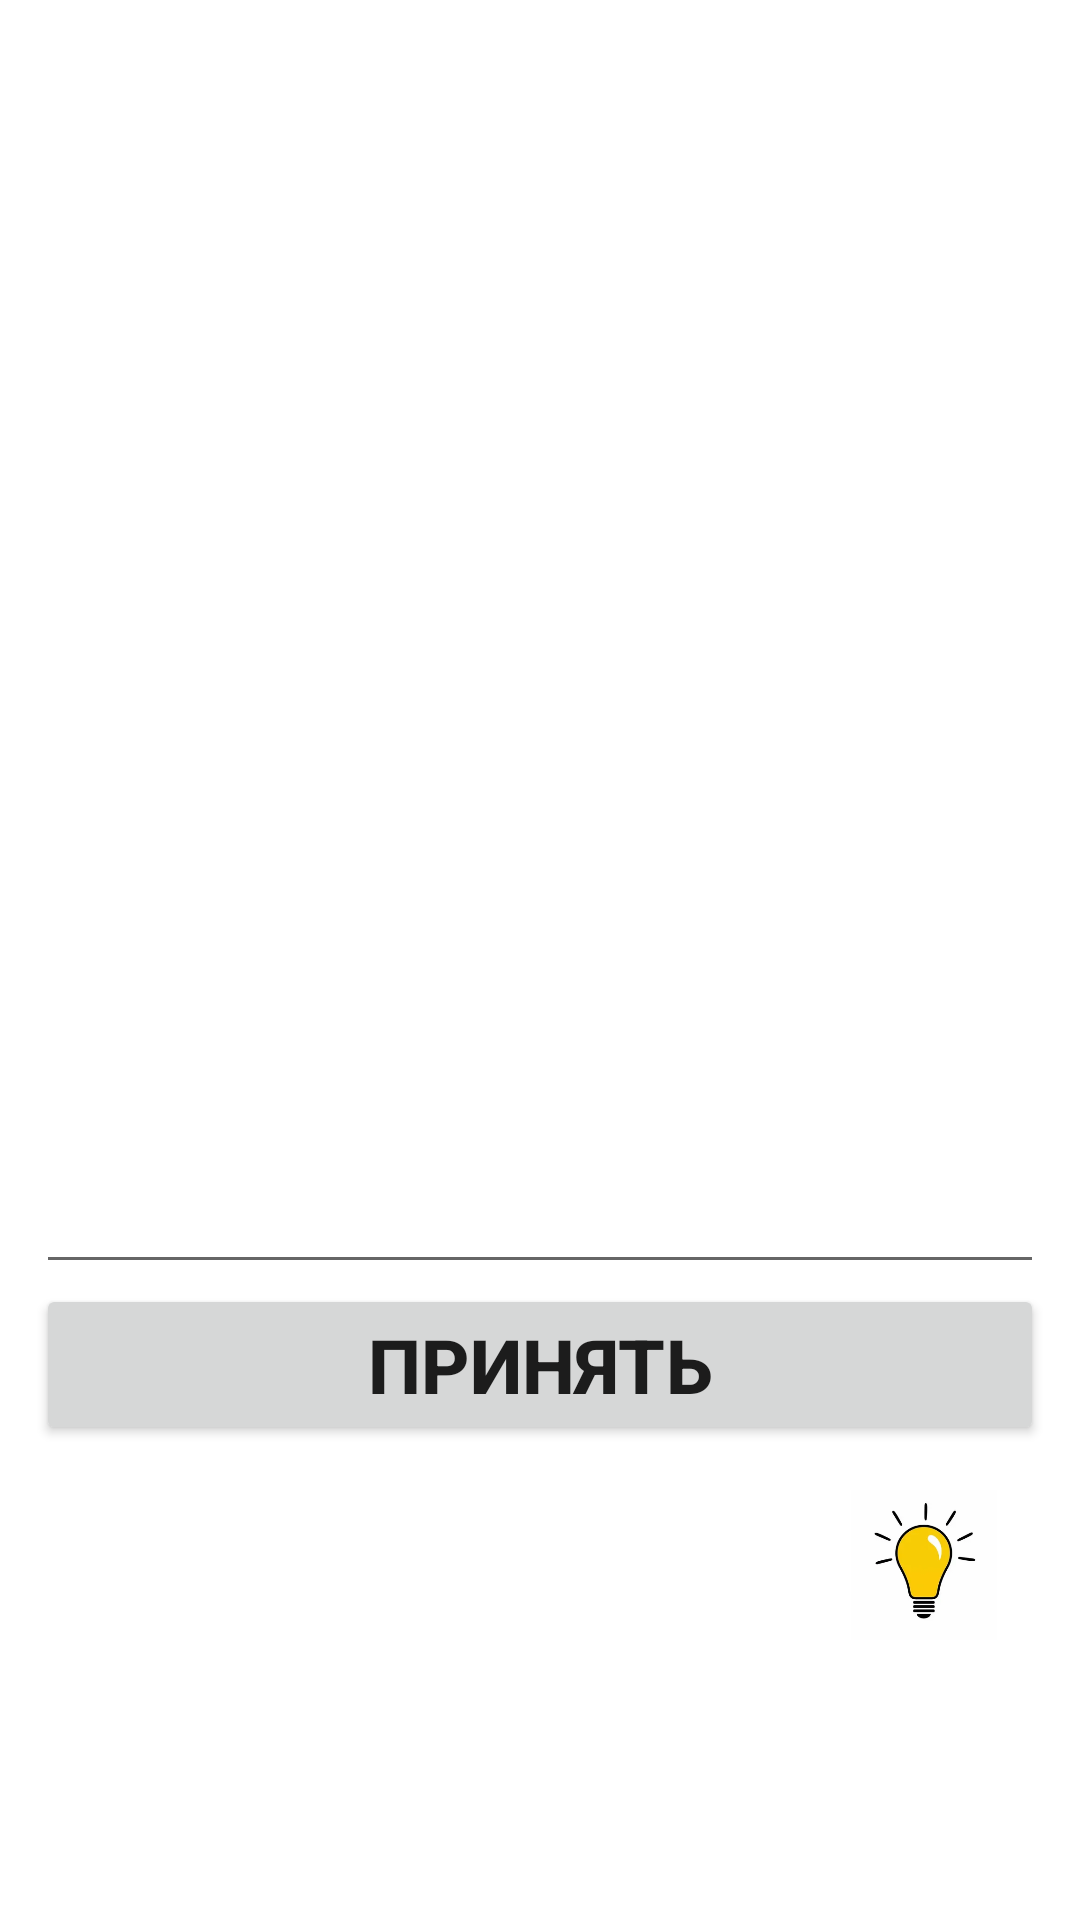

Screen size 1080px x 1920px. Icon name, then its box in pixels as (x1, y1, x2, y2):
lamp: (874, 1503, 975, 1619)
